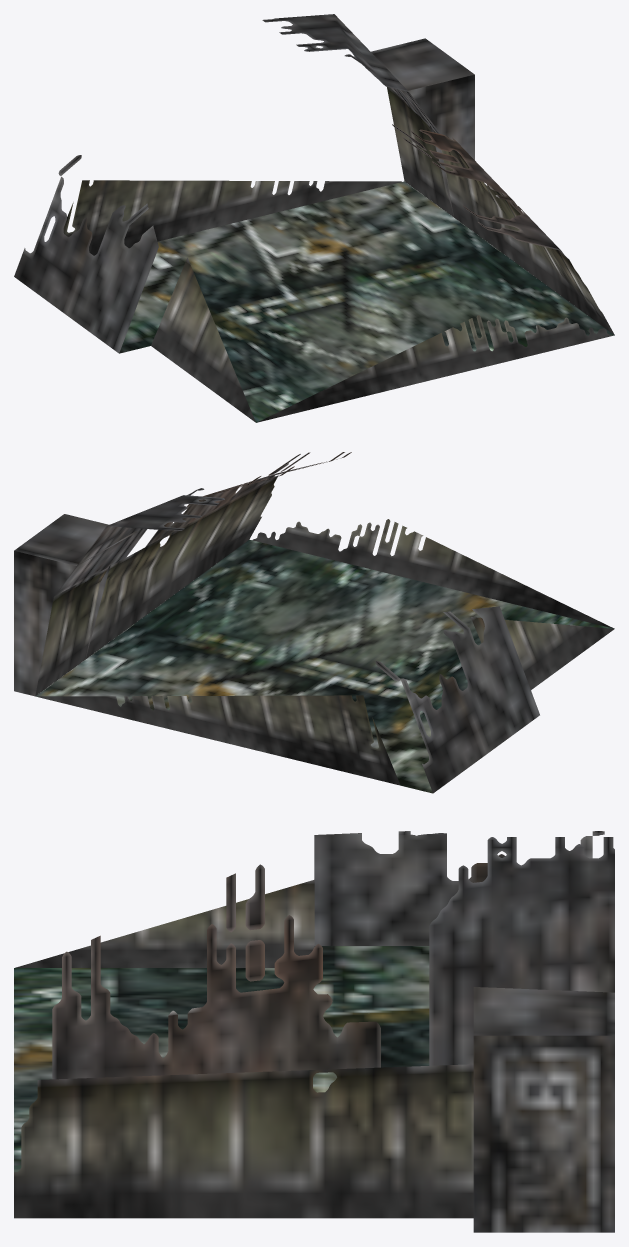
The model's file is singlecivlivinga_dam.glb.
3 views of the same model, one above another, from view 1: azimuth 30°, elevation 25°; view 2: azimuth 150°, elevation 25°; view 3: azimuth 270°, elevation 25° (orthographic). The views are drawn at different scales.
Parts seen in each view (by area): view 1: Cylinder01; view 2: Cylinder01; view 3: Cylinder01.
Part boxes in pixels (x1,y1,x2,y2): Cylinder01: [14, 14, 614, 422]; Cylinder01: [14, 452, 614, 793]; Cylinder01: [14, 831, 614, 1232].
Size of the model in its own units: 7.85 by 3.59 by 6.95.
Materials: 2 (2 with a texture image).
